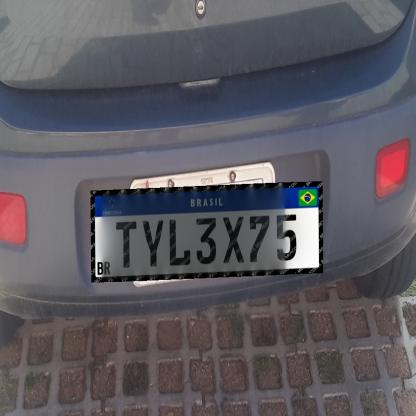PlacaM: (91, 182, 323, 282)
